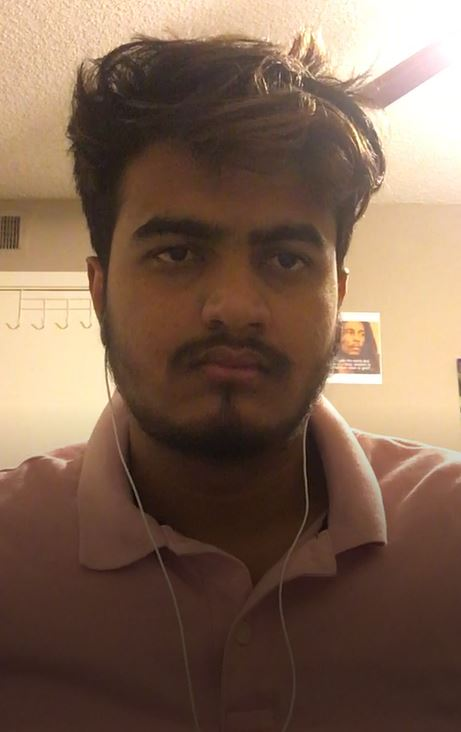Not Sleeping: (120, 214, 346, 293)
